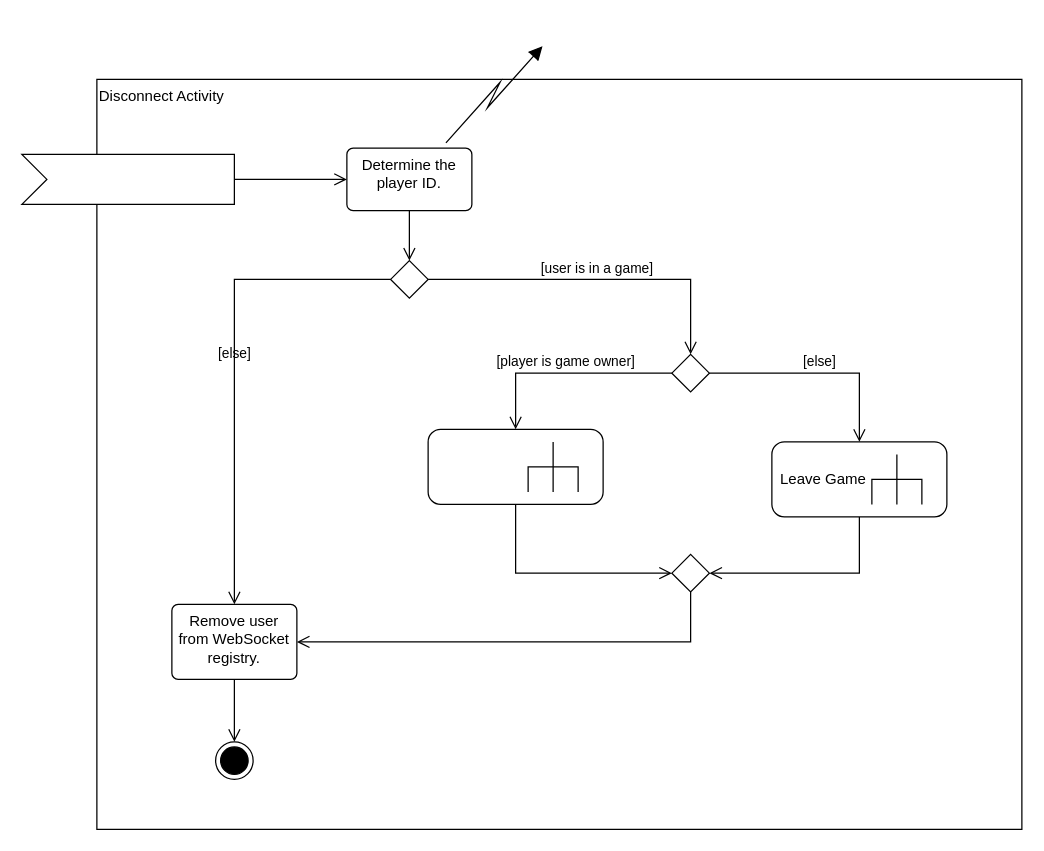
The diagram is 1044 pixels wide and 851 high, and some of its shapes have lost their labels. The centre of each missing label's shape, as x and y in pixels:
"Close Game" belongs at [515,466].
"WebSocket Closure" belongs at [127,178].
